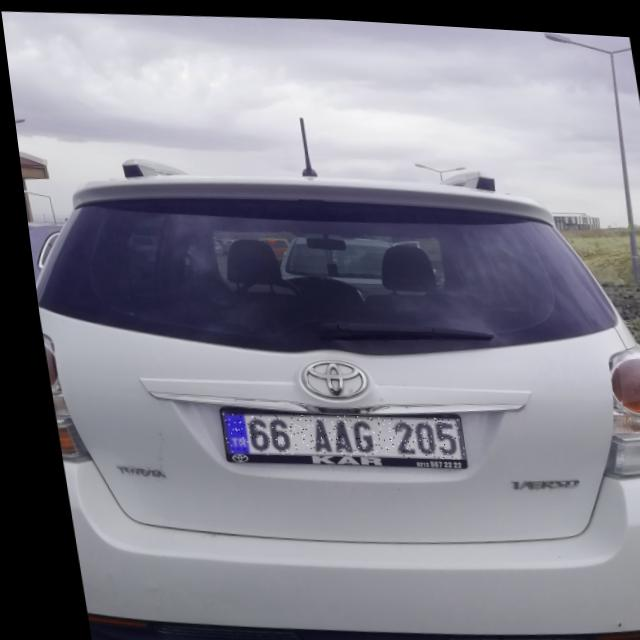license_plate: (210, 402, 455, 462)
